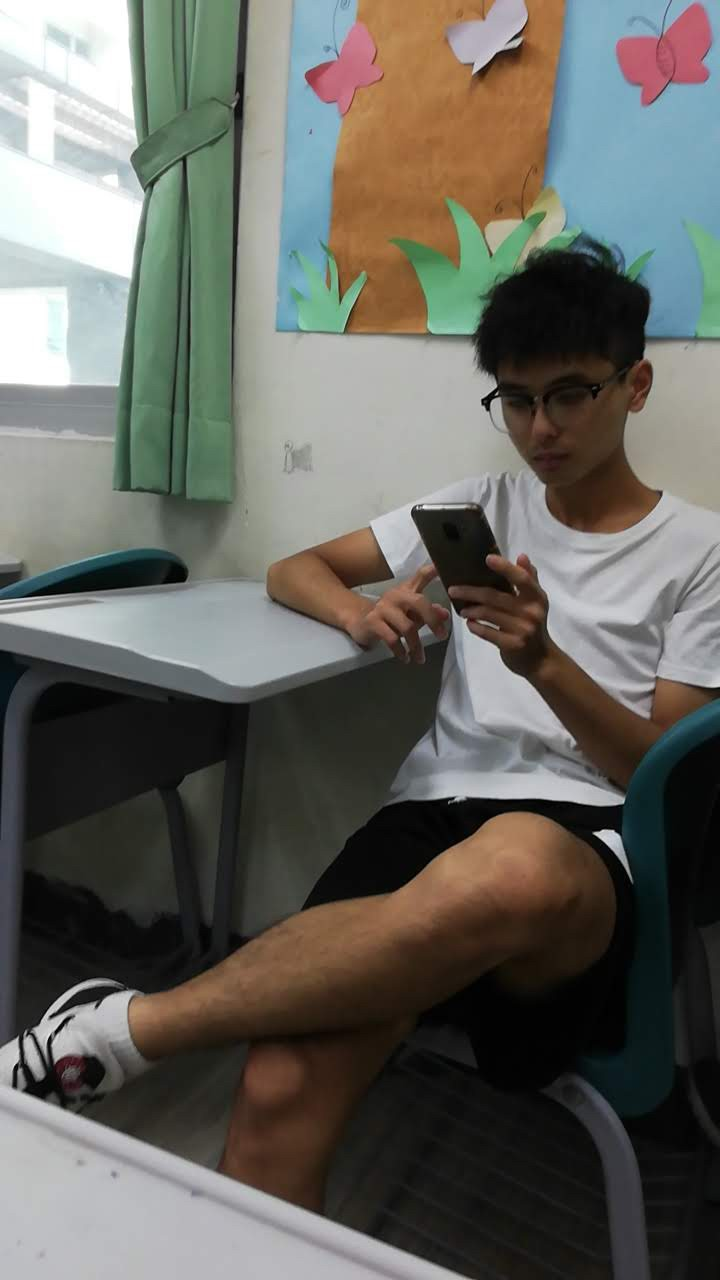people: (340, 243, 689, 1049)
